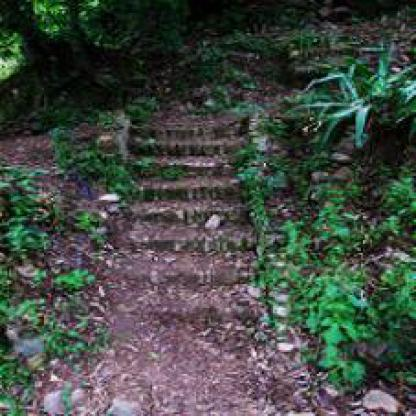stair_up: (117, 119, 262, 310)
